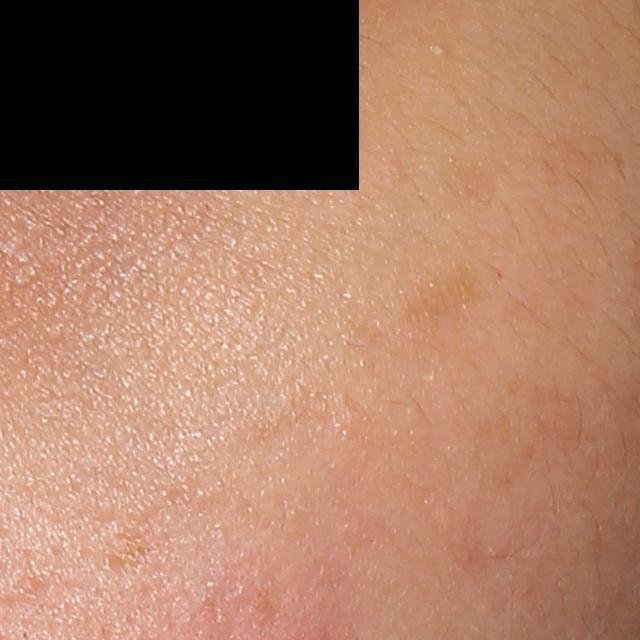melasma: (386, 259, 494, 328)
